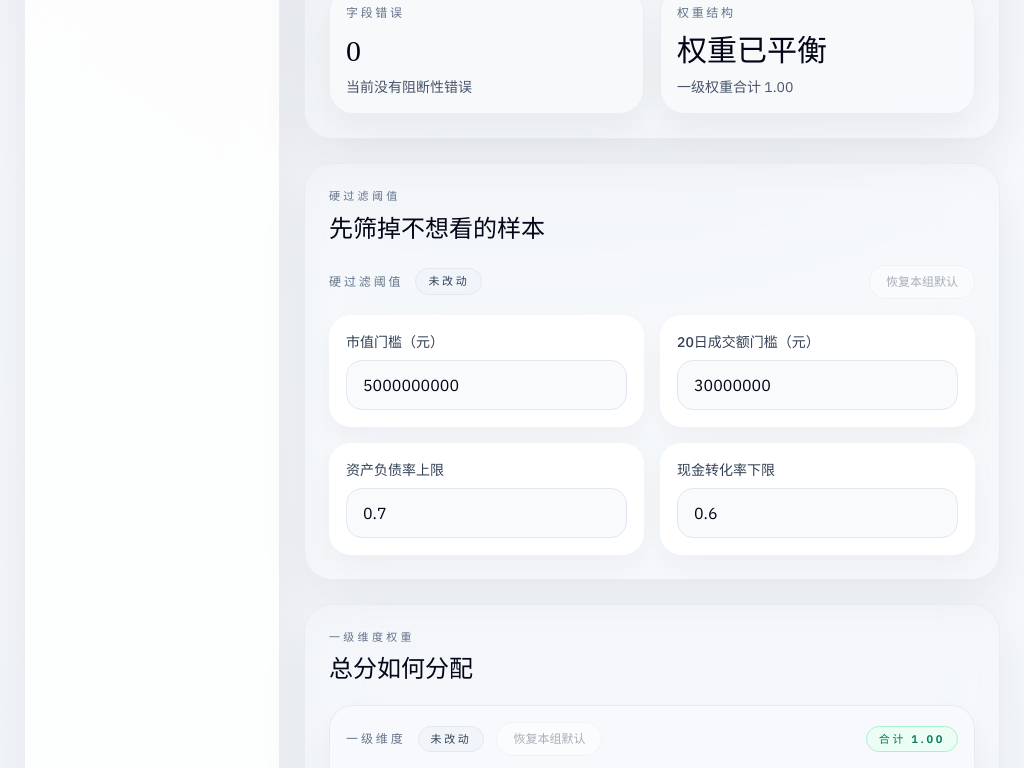
Test case: LabPage › shows soft warning without blocking submit
The image size is (1024, 768).
(page scrolled)
Replace the text in the number field labelled "市值门槛（元）" with "0". click: (486, 384)
box: 346,360 -> 627,410
(page scrolled)
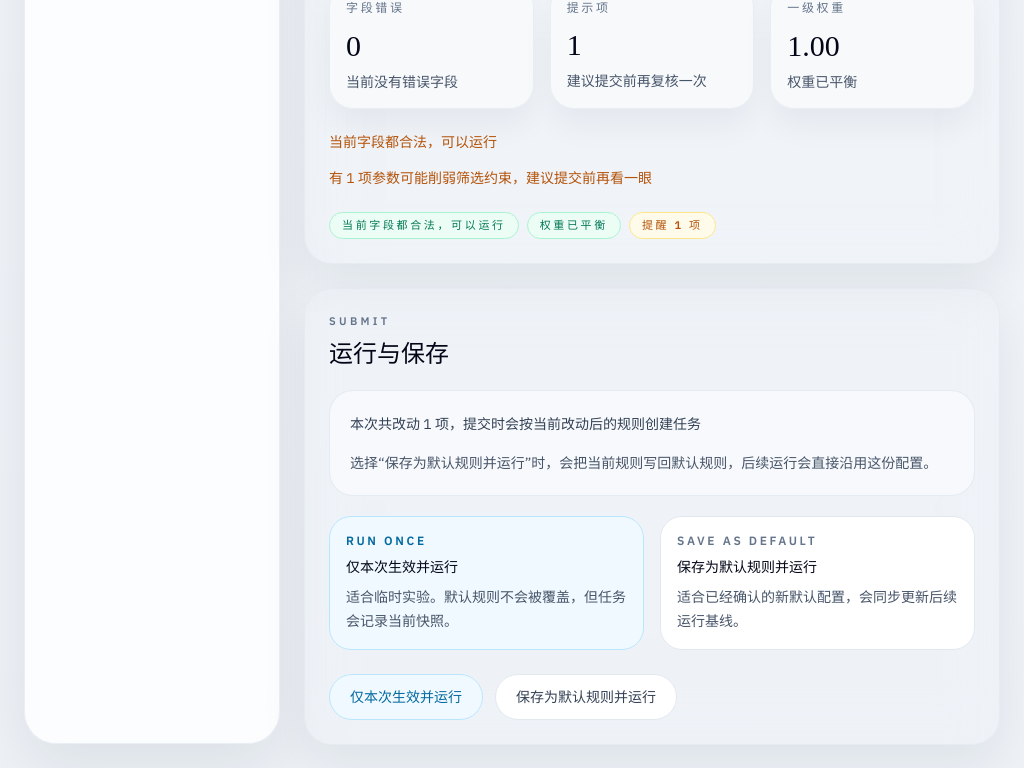
Expected: the button "仅本次生效并运行" is enabled, 329,673 -> 483,719
Now the 1st text "当前字段都合法，可以运行" is shown, box 329,133 -> 497,151
